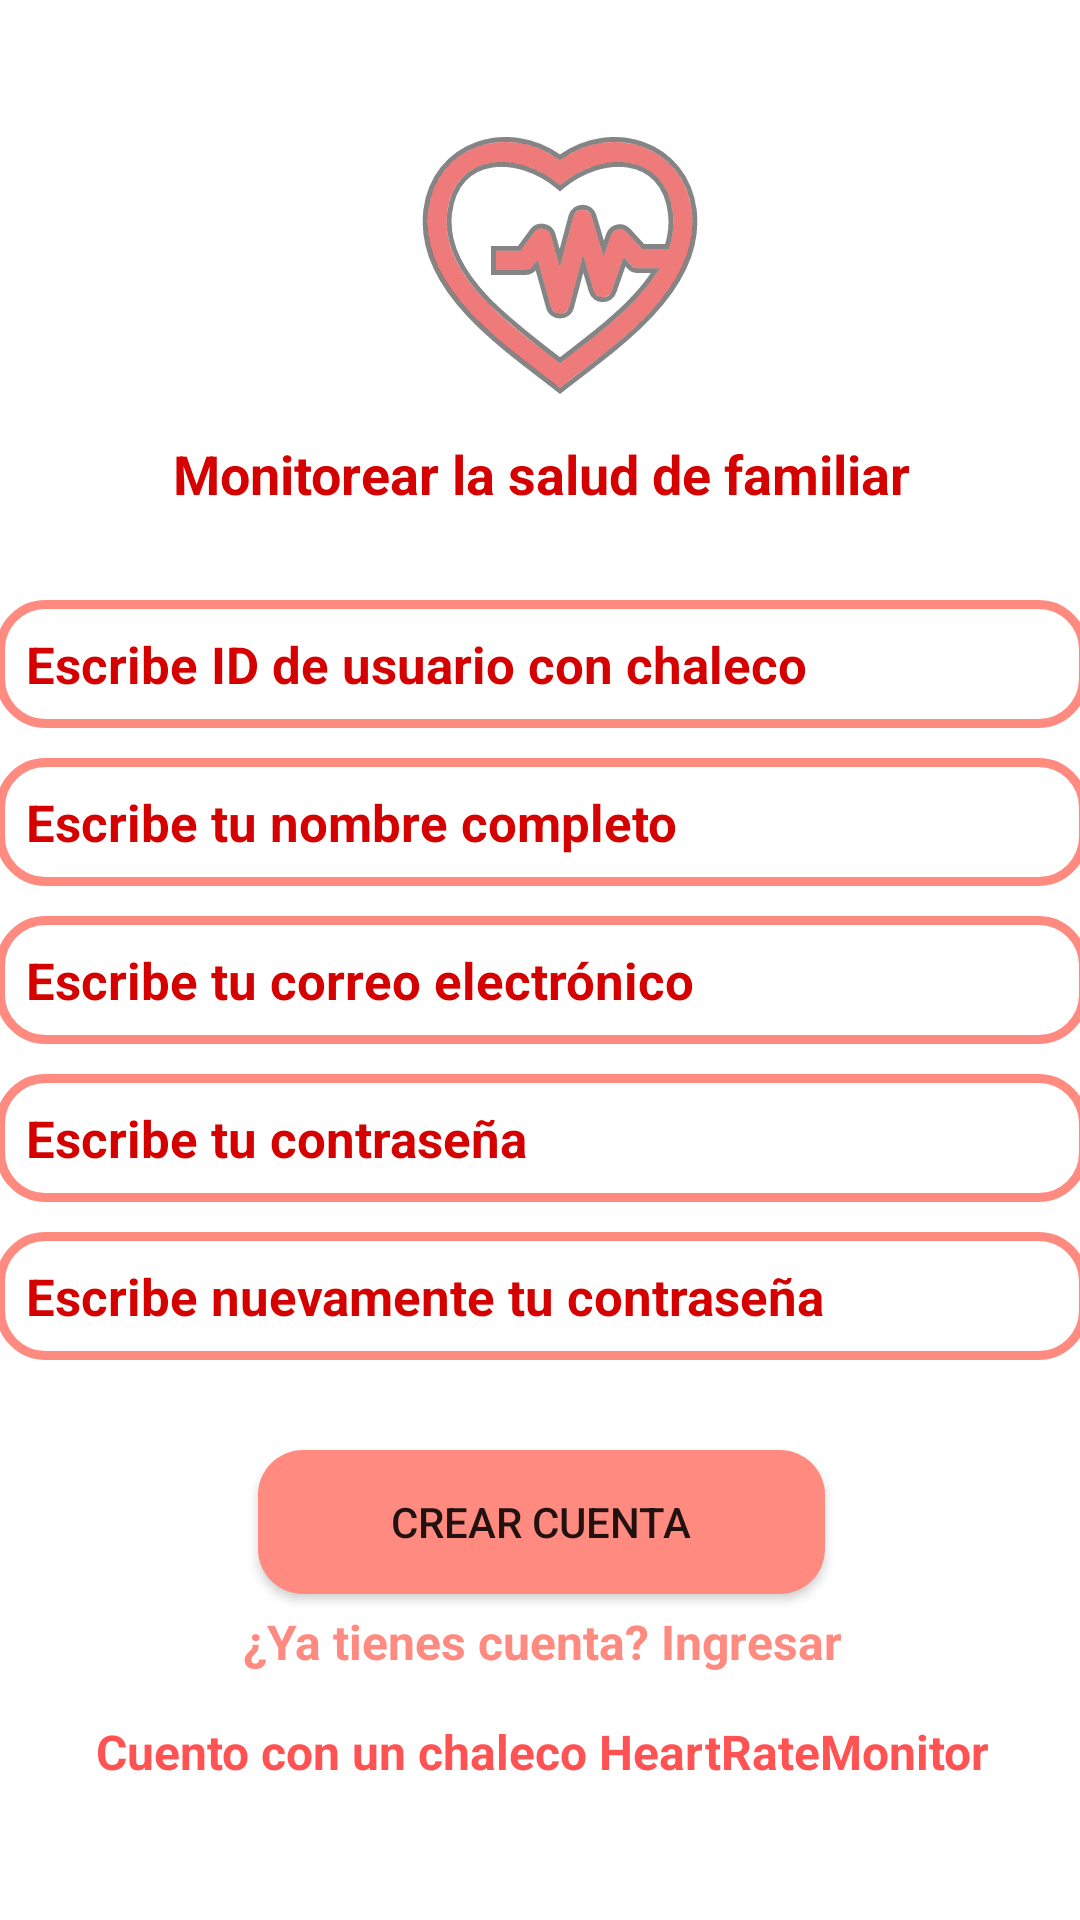

Named icons in this screenshot (1080*1920) and their bounding boxes, (x1, y1, x2, y2):
corazon: (422, 137, 698, 394)
